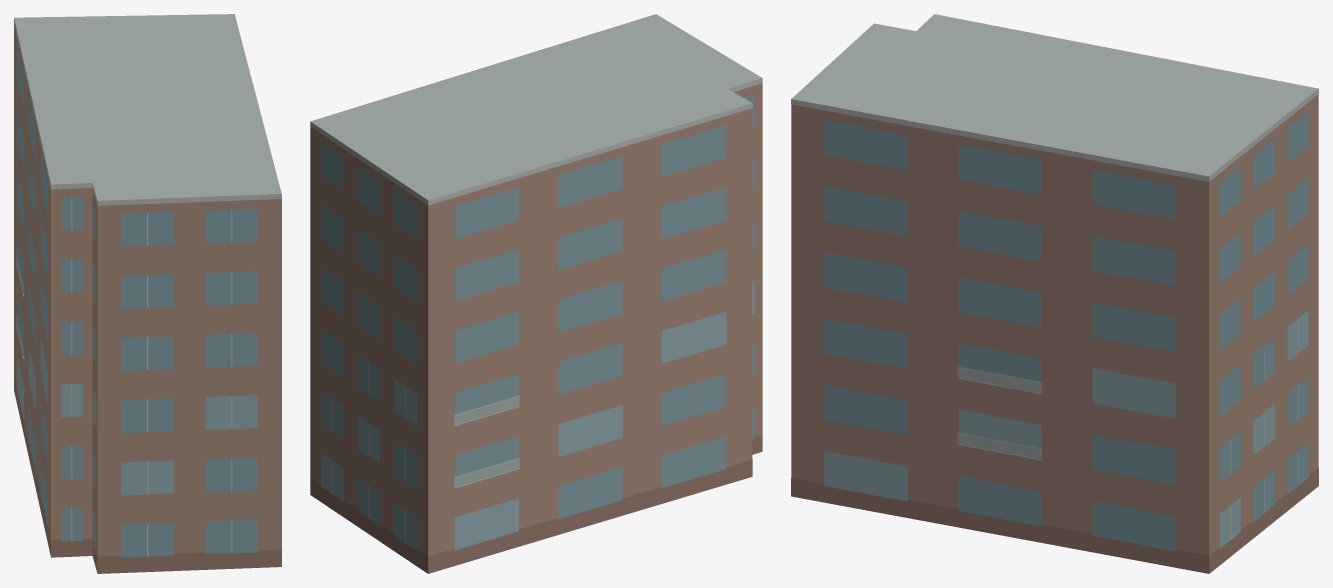
Rendered from survey-upis-32530551.glb.
3 renders of one model, left to right at view 1: azimuth 30°, elevation 25°; view 2: azimuth 150°, elevation 25°; view 3: azimuth 270°, elevation 25°, orthographic. The views are drawn at different scales.
Parts seen in each view (by area): view 1: survey-upis-32530551.tmp; view 2: survey-upis-32530551.tmp; view 3: survey-upis-32530551.tmp.
Part boxes in pixels (box(x1,y1,x2,y2)): survey-upis-32530551.tmp: box(14, 14, 281, 573); survey-upis-32530551.tmp: box(310, 14, 762, 573); survey-upis-32530551.tmp: box(791, 14, 1318, 573).
Bounding box in the file's own units: 15.97 × 18.2 × 21.91.
